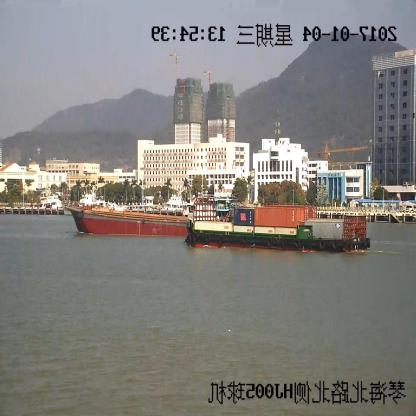Bulk Carrier: (66, 206, 187, 233)
